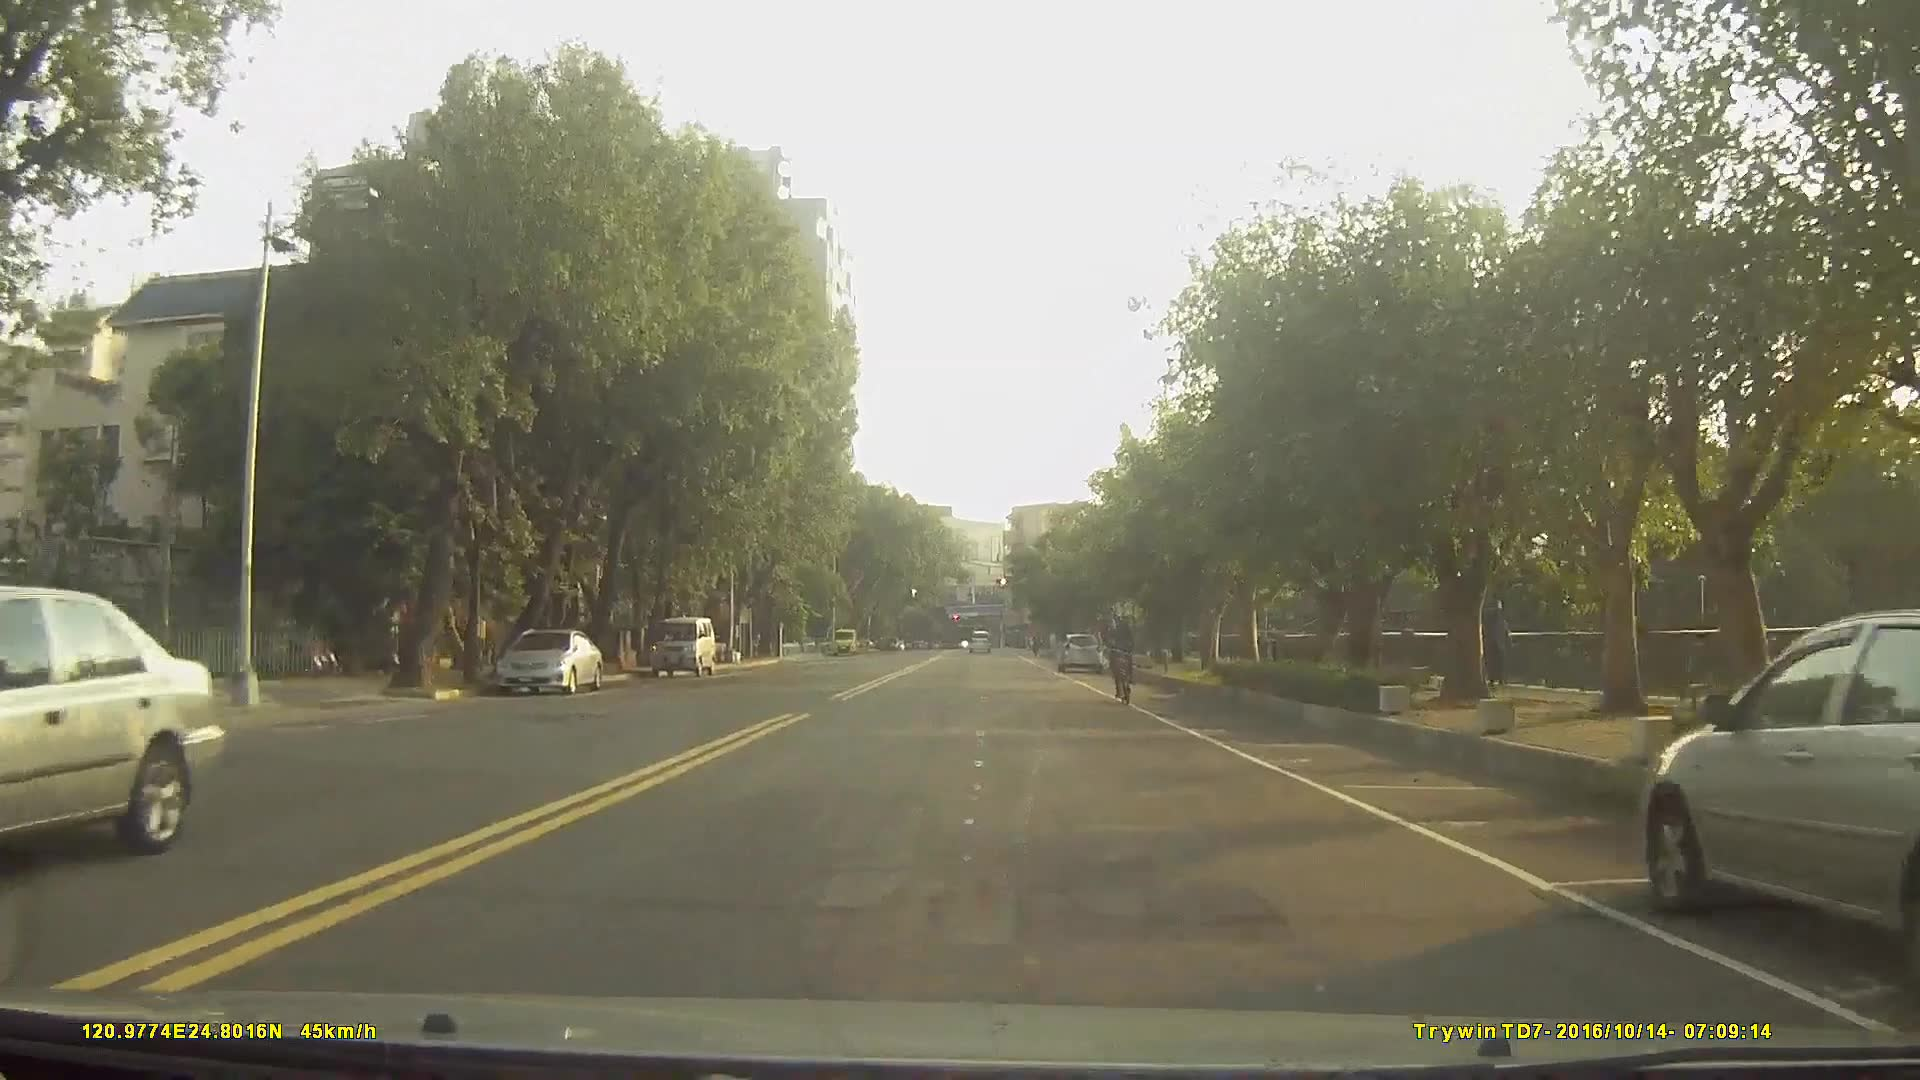rider: (1107, 613, 1139, 707)
vehicle: (1642, 608, 1920, 976), (0, 581, 227, 857), (492, 629, 603, 697), (647, 615, 716, 679), (1054, 630, 1102, 670), (966, 627, 991, 653)
